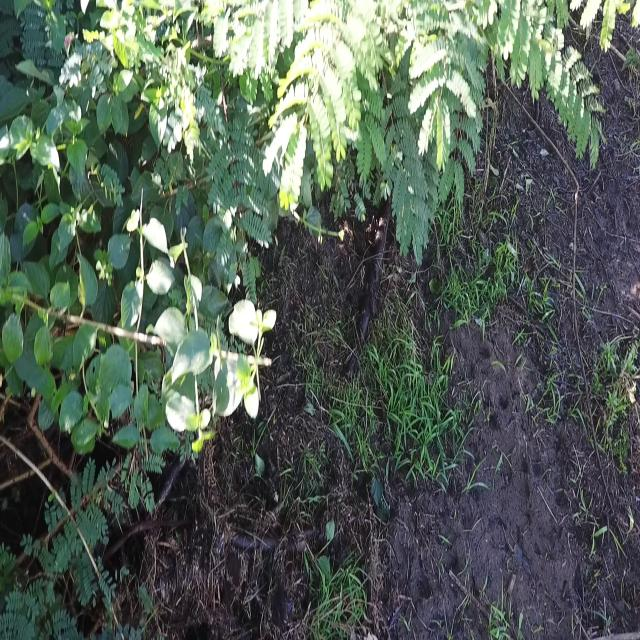Mysore-Thorn-Weed: (223, 2, 609, 266), (0, 461, 129, 640)
